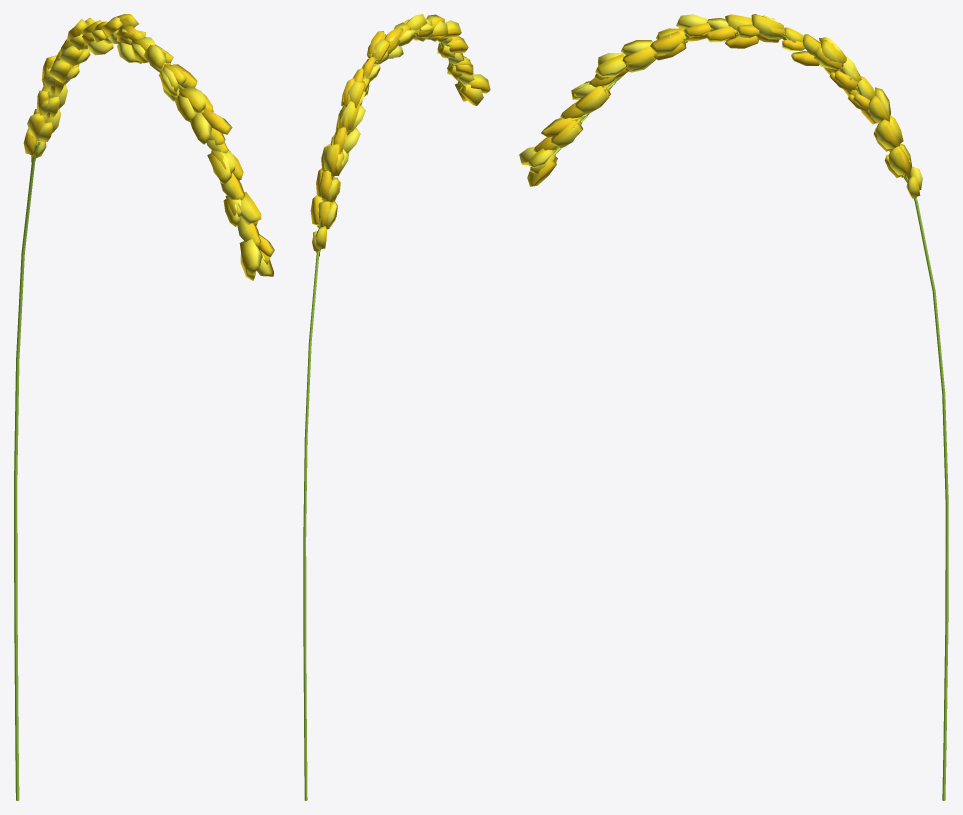
File: RiceFlower10_LOD.fbx
3 views of the same model, side by side, from view 1: azimuth 30°, elevation 25°; view 2: azimuth 150°, elevation 25°; view 3: azimuth 270°, elevation 25° (orthographic). The views are drawn at different scales.
Parts seen in each view (by area): view 1: RiceFlower10_LOD0; view 2: RiceFlower10_LOD0; view 3: RiceFlower10_LOD0.
Part boxes in pixels (x1,y1,x2,y2): RiceFlower10_LOD0: (14, 14, 274, 800); RiceFlower10_LOD0: (303, 14, 490, 800); RiceFlower10_LOD0: (519, 14, 948, 800).
Size of what is drawn, in the model's own units: 32.13 by 524 by 258.
Materials: 1 (1 with a texture image).
